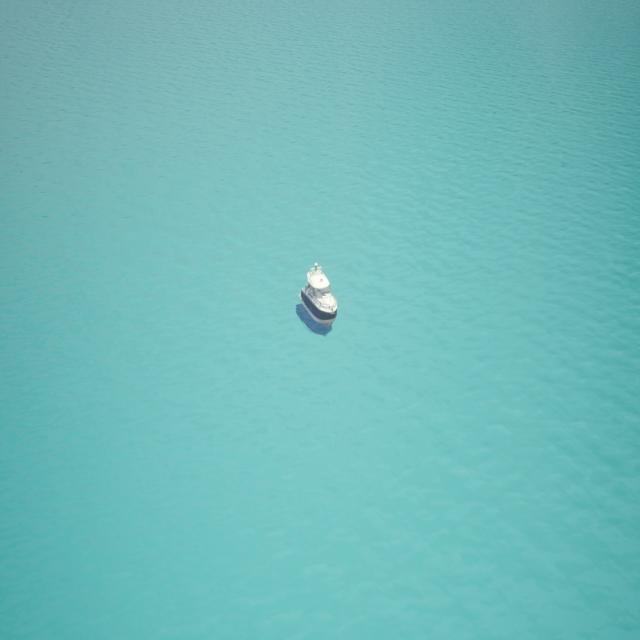ship: (298, 258, 338, 330)
